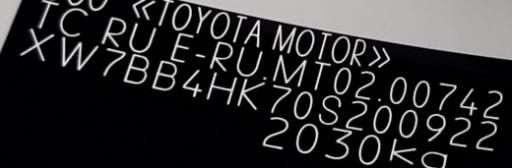letter: (58, 34, 104, 71), (16, 25, 56, 62), (204, 69, 240, 107), (121, 51, 153, 85), (149, 58, 179, 92), (179, 66, 209, 100), (235, 76, 265, 110), (100, 46, 130, 79), (344, 97, 372, 132), (447, 115, 475, 148), (396, 105, 422, 140), (473, 117, 499, 152), (316, 93, 344, 125), (267, 82, 293, 114), (290, 88, 316, 120), (424, 109, 448, 142), (372, 102, 394, 135)
